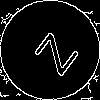Z: (25, 25, 80, 77)
